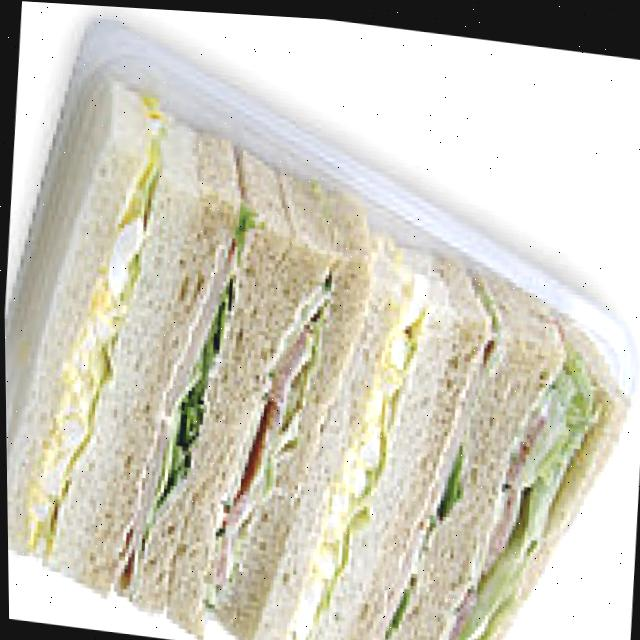三明治: (1, 71, 637, 640)
